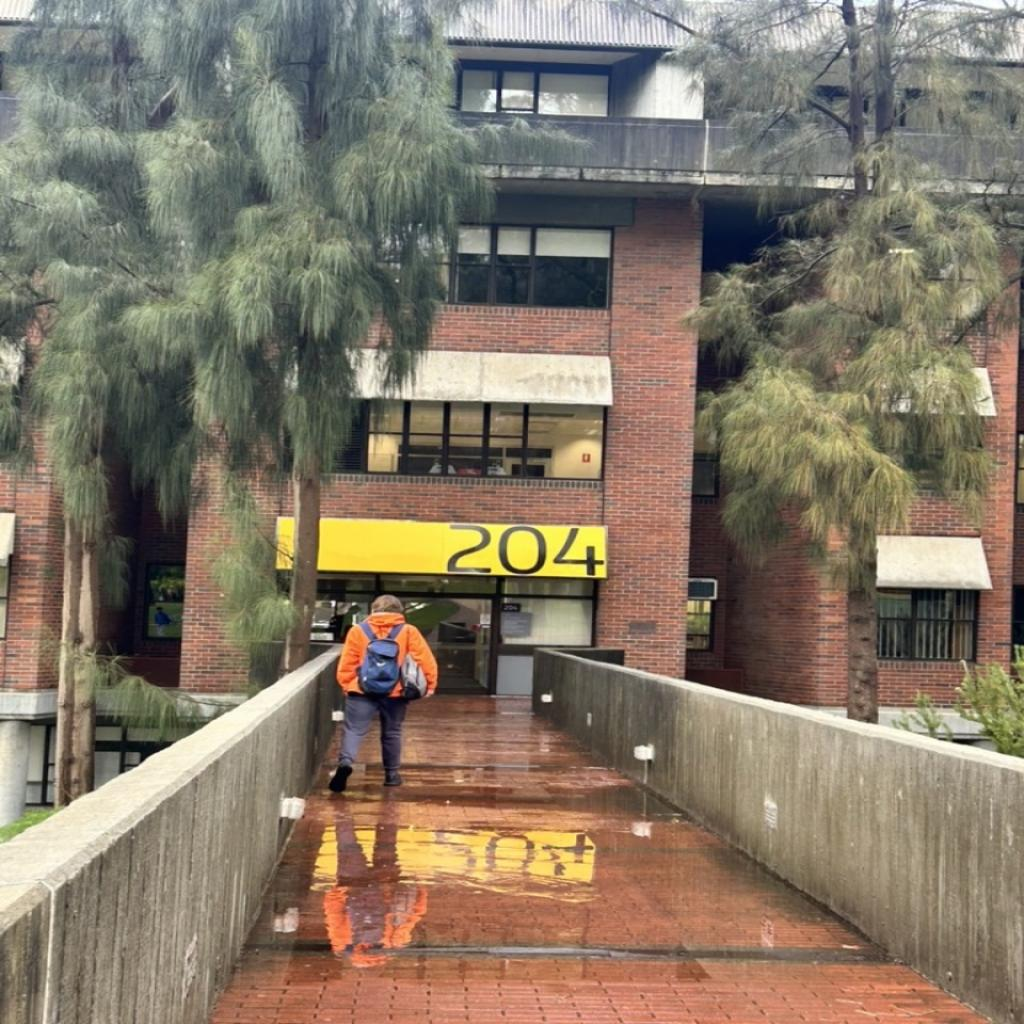BuildingCodes: (438, 515, 608, 583)
